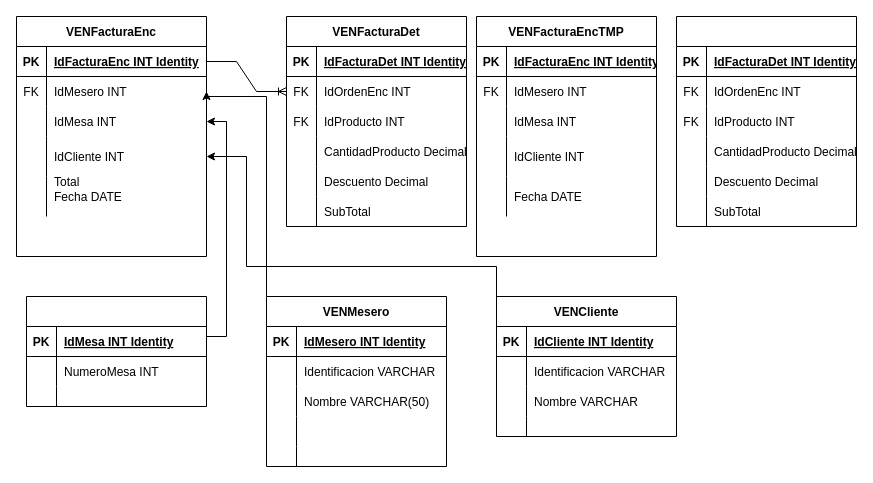
Image size: 873x483. Some labels were removed from this diagram. Each missing label, with the box of its shape:
VENFacturaDetTMP: (676, 16, 856, 226)
VENMesa: (26, 296, 206, 406)
